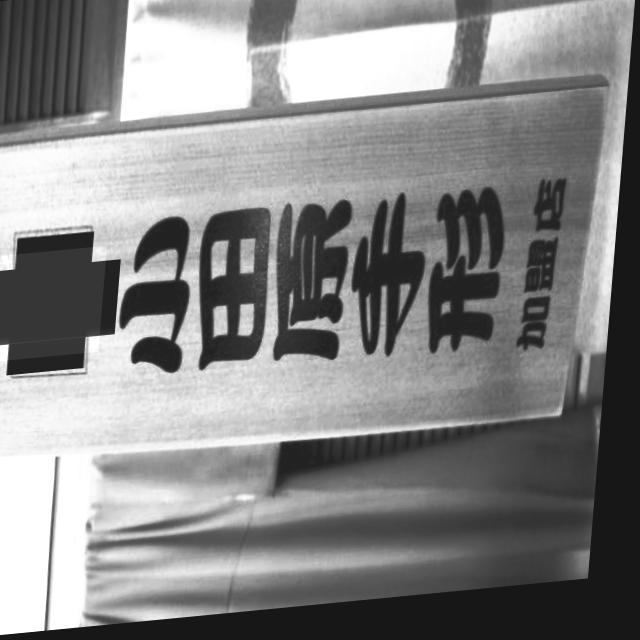qr_code: (0, 247, 112, 361)
